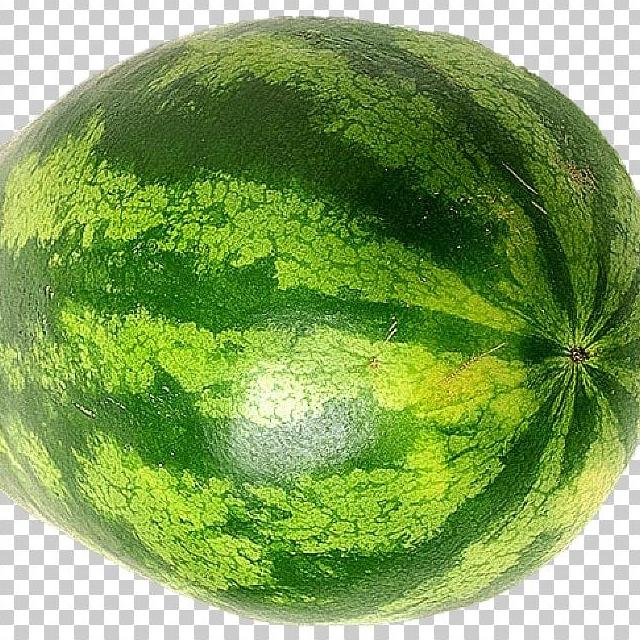watermelon: (0, 33, 640, 624)
